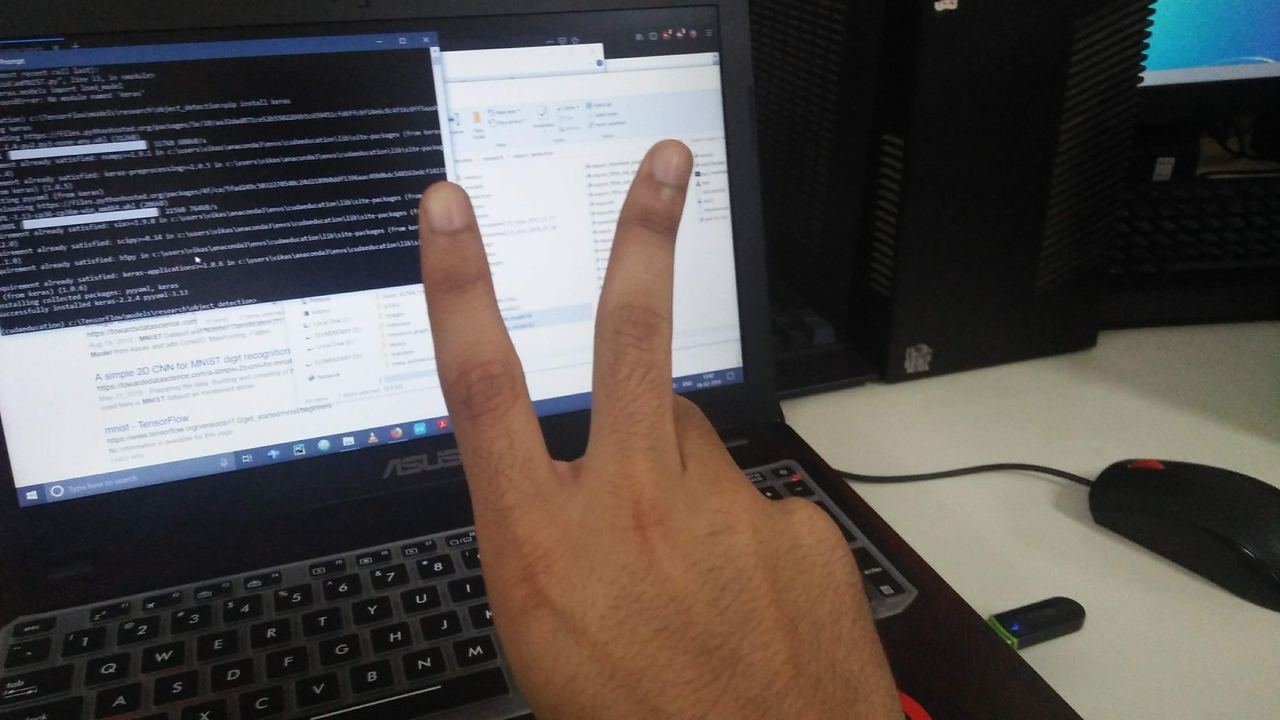fingertip: (630, 134, 698, 190), (412, 174, 472, 236)
